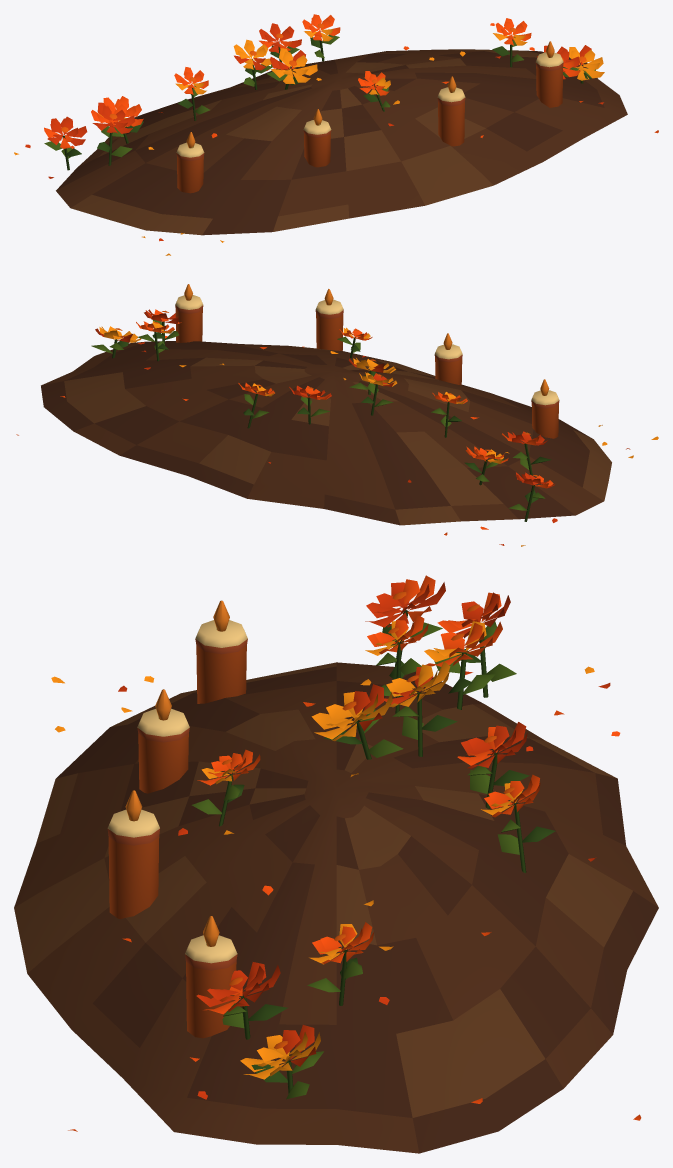
The model's file is monticulo_flores.obj.
3 renders of one model, top to bottom at view 1: azimuth 30°, elevation 25°; view 2: azimuth 150°, elevation 25°; view 3: azimuth 270°, elevation 25°, orthographic. The views are drawn at different scales.
Visible parts, largest first — view 1: monticulo_flores; view 2: monticulo_flores; view 3: monticulo_flores.
Part boxes in pixels (<box>): monticulo_flores: <box>14,14,658,255</box>; monticulo_flores: <box>16,284,658,546</box>; monticulo_flores: <box>14,575,658,1153</box>.
Size of the model in its own units: 2.22 by 0.3799 by 1.23.
